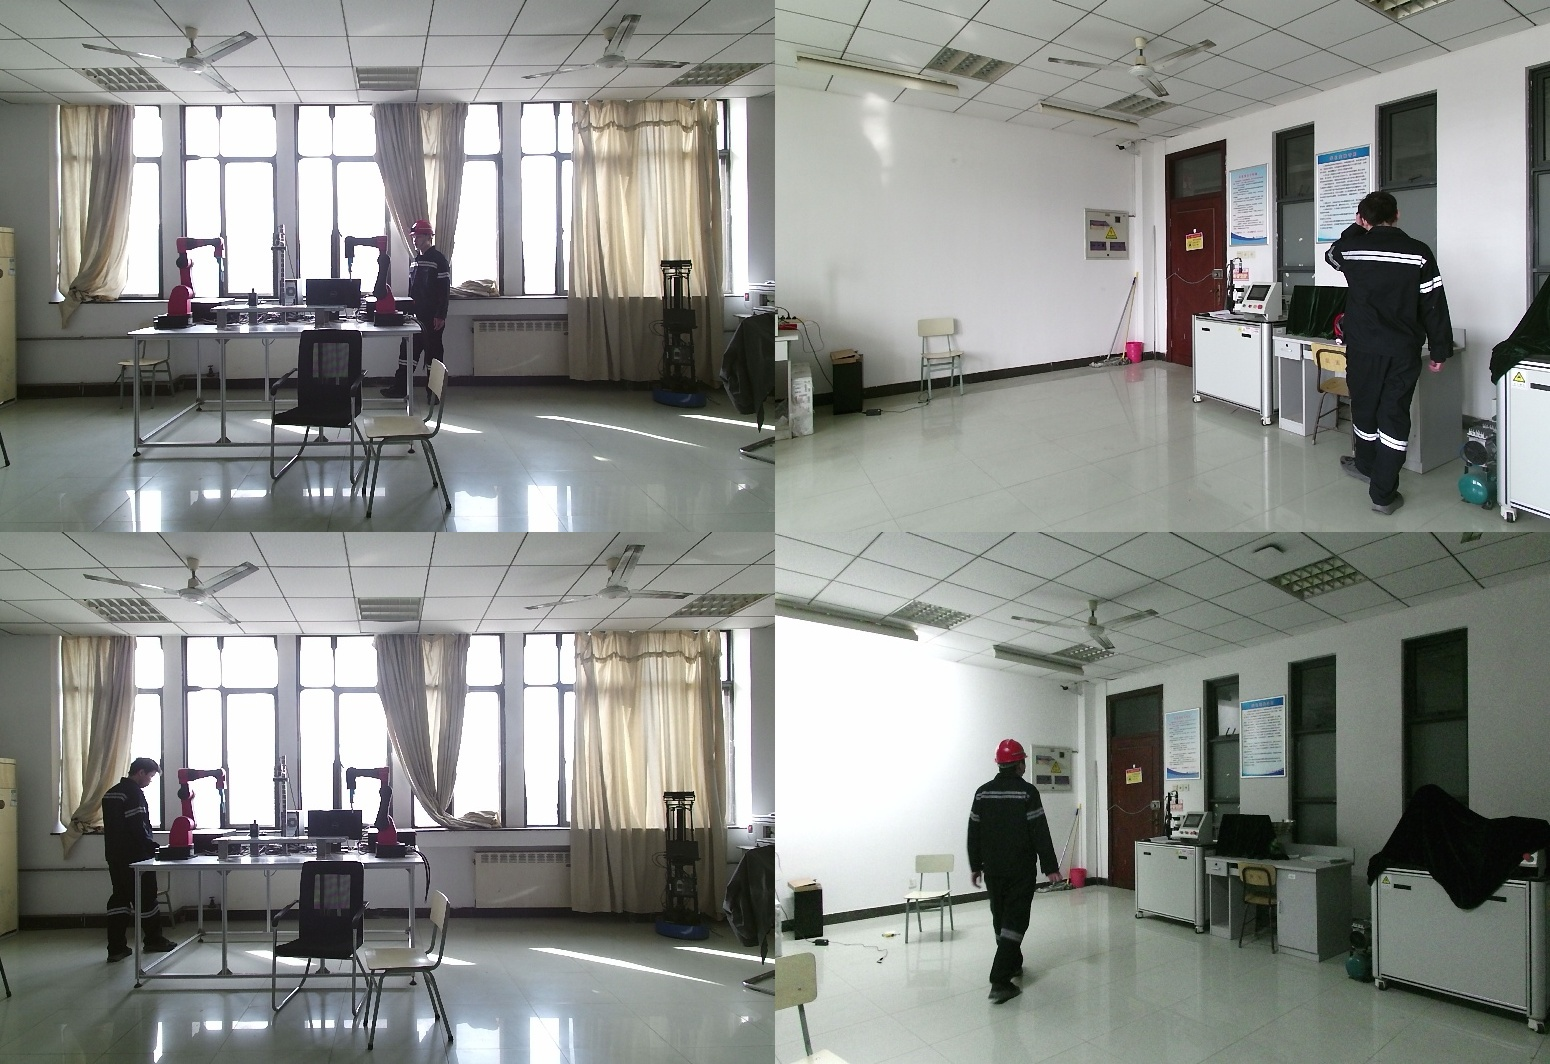person: (1334, 191, 1469, 511), (963, 739, 1061, 1002), (94, 757, 177, 963), (381, 222, 453, 407)
